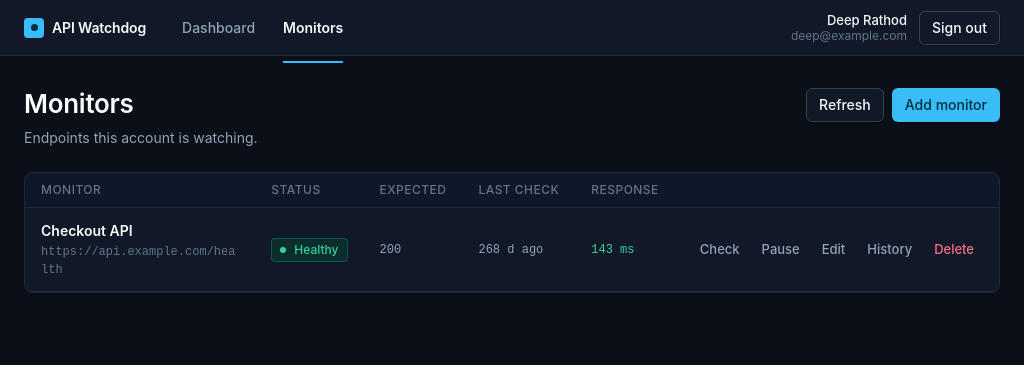
delete › asks for confirmation before deleting anything
This screenshot has width=1024, height=365.
Expected: the text "Checkout API" is shown, [41,222,133,239]
Click the button with aria-label "Delete Checkout API" at (954, 250), box [925,236,983,264]
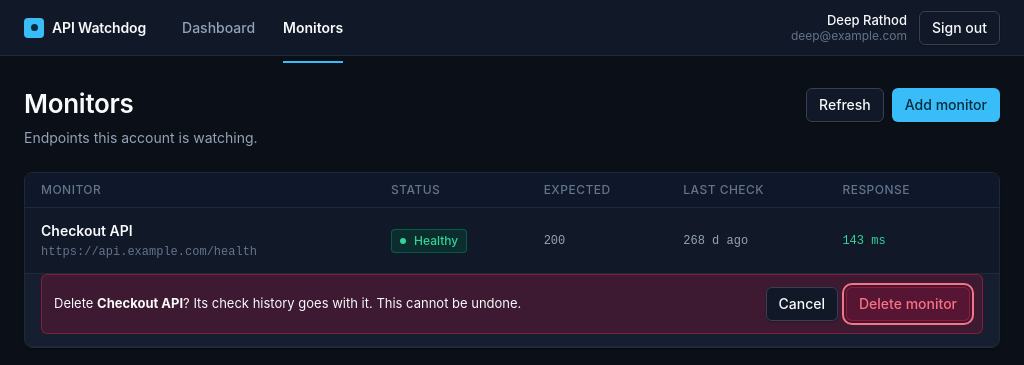
Now the text "cannot be undone" is shown, box [183,295,521,311]
